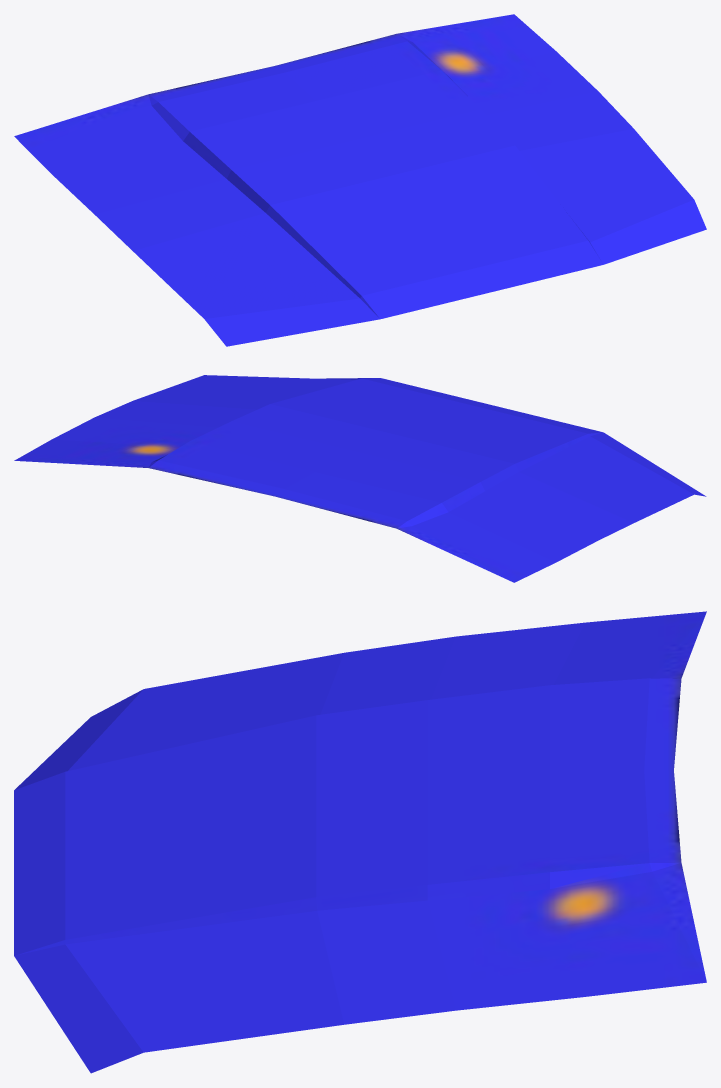
Rendered from hood.obj.
3 renders of one model, top to bottom at view 1: azimuth 30°, elevation 25°; view 2: azimuth 150°, elevation 25°; view 3: azimuth 270°, elevation 25°, orthographic. The views are drawn at different scales.
Parts seen in each view (by area): view 1: hood; view 2: hood; view 3: hood.
Part boxes in pixels (x1,y1,x2,y2): hood: [14, 14, 706, 346]; hood: [14, 375, 706, 582]; hood: [14, 611, 706, 1073].
Bounding box in the file's own units: 1.09 × 0.1704 × 0.8551.
